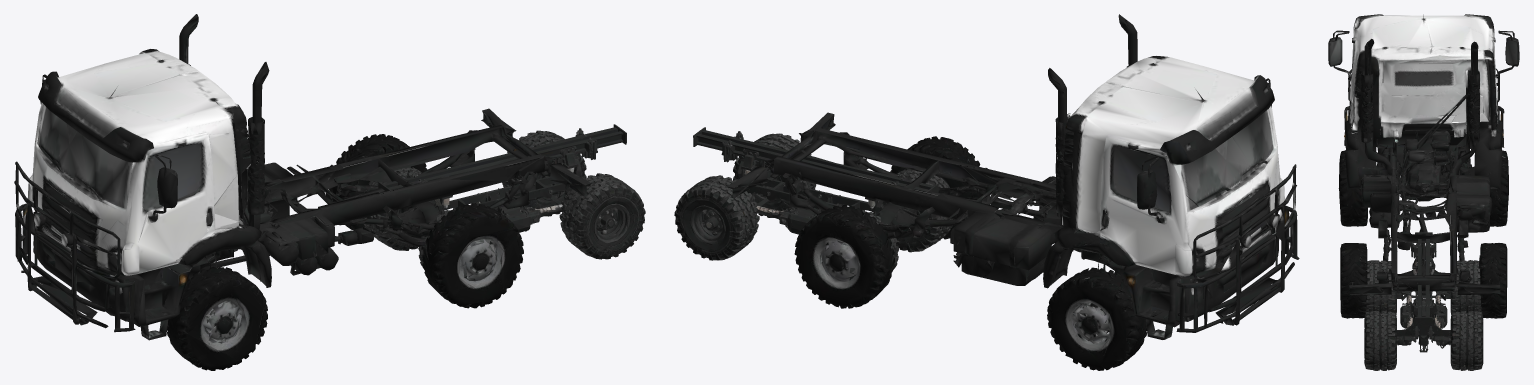
Rendered from caminhao-mobile-DlrUT7SL.glb.
3 views of the same model, side by side, from view 1: azimuth 30°, elevation 25°; view 2: azimuth 150°, elevation 25°; view 3: azimuth 270°, elevation 25° (orthographic). The views are drawn at different scales.
Visible parts, largest first — view 1: TRUCK_4X2, AUXILIARY_AXLE; view 2: TRUCK_4X2, AUXILIARY_AXLE; view 3: TRUCK_4X2, AUXILIARY_AXLE.
Part boxes in pixels (x1,y1,x2,y2): TRUCK_4X2: (14, 14, 590, 370); AUXILIARY_AXLE: (361, 124, 645, 266); TRUCK_4X2: (727, 14, 1299, 370); AUXILIARY_AXLE: (674, 127, 953, 275); TRUCK_4X2: (1328, 14, 1519, 318); AUXILIARY_AXLE: (1364, 232, 1483, 370).
Size of the model in its own units: 9.54 by 4.47 by 3.76.
Materials: 2 (2 with a texture image).
